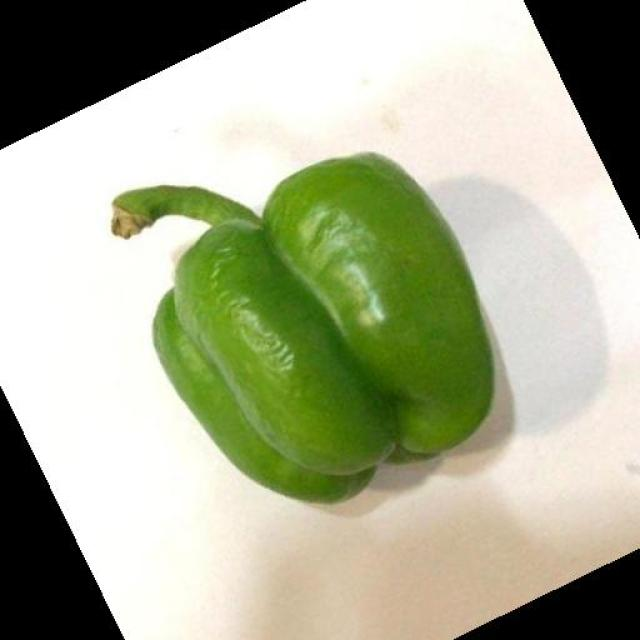Fresh_Capsicum: (106, 181, 541, 443)
